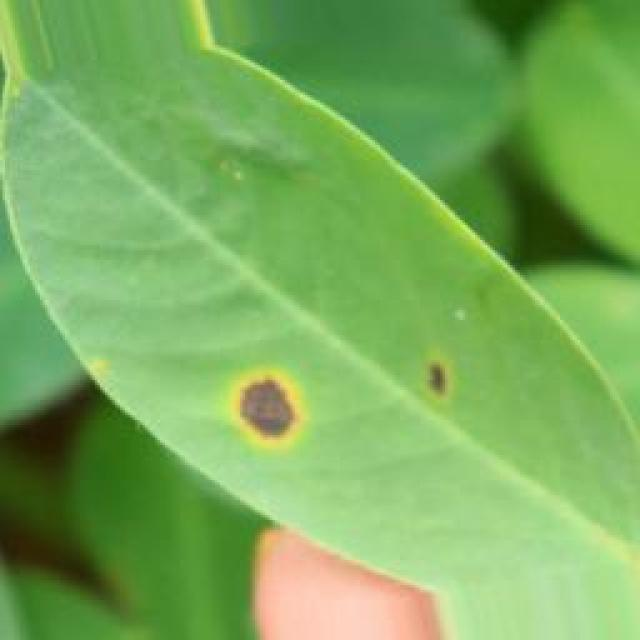Sigatoka: (196, 334, 311, 482), (372, 329, 454, 418)
